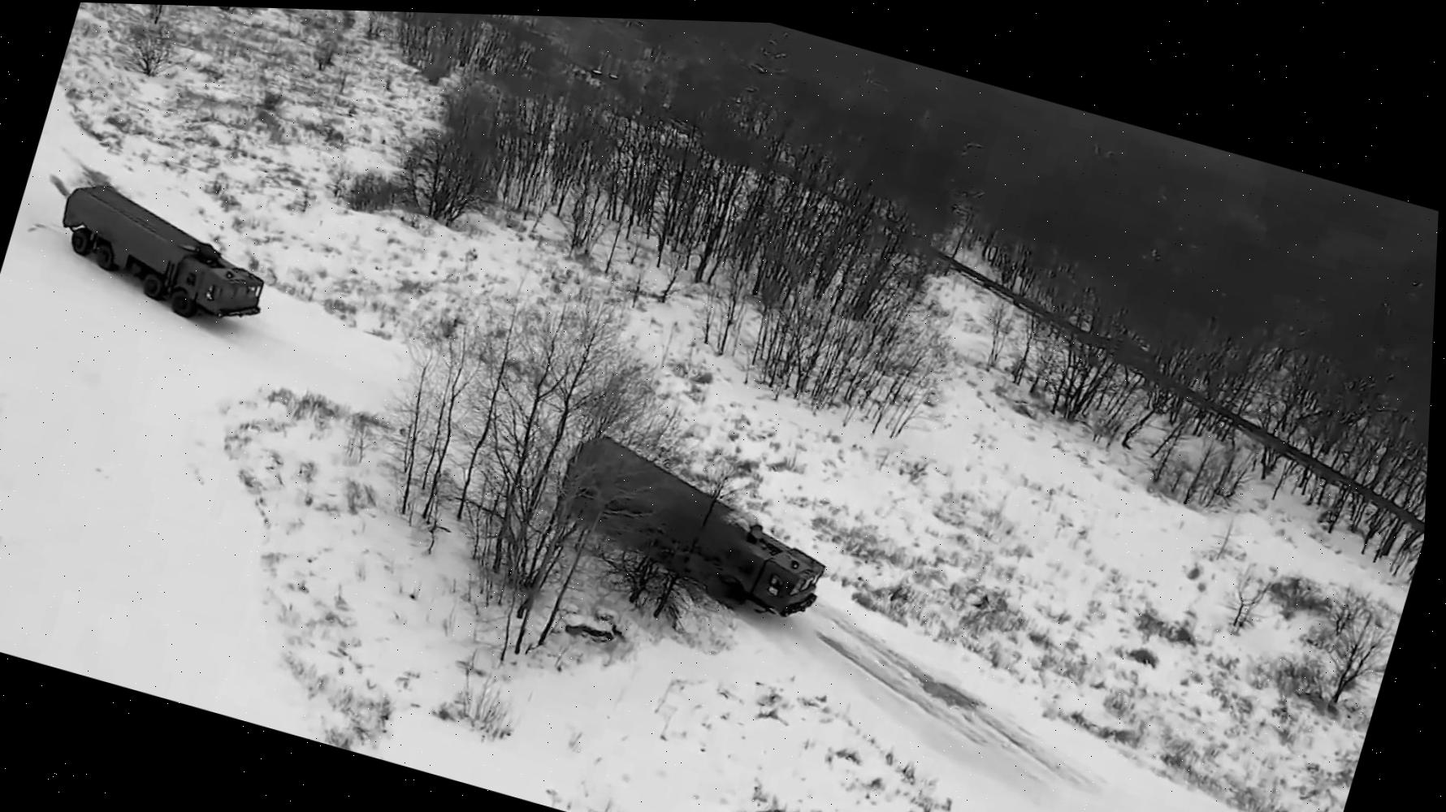rszo: (533, 423, 847, 631), (39, 173, 285, 338)
